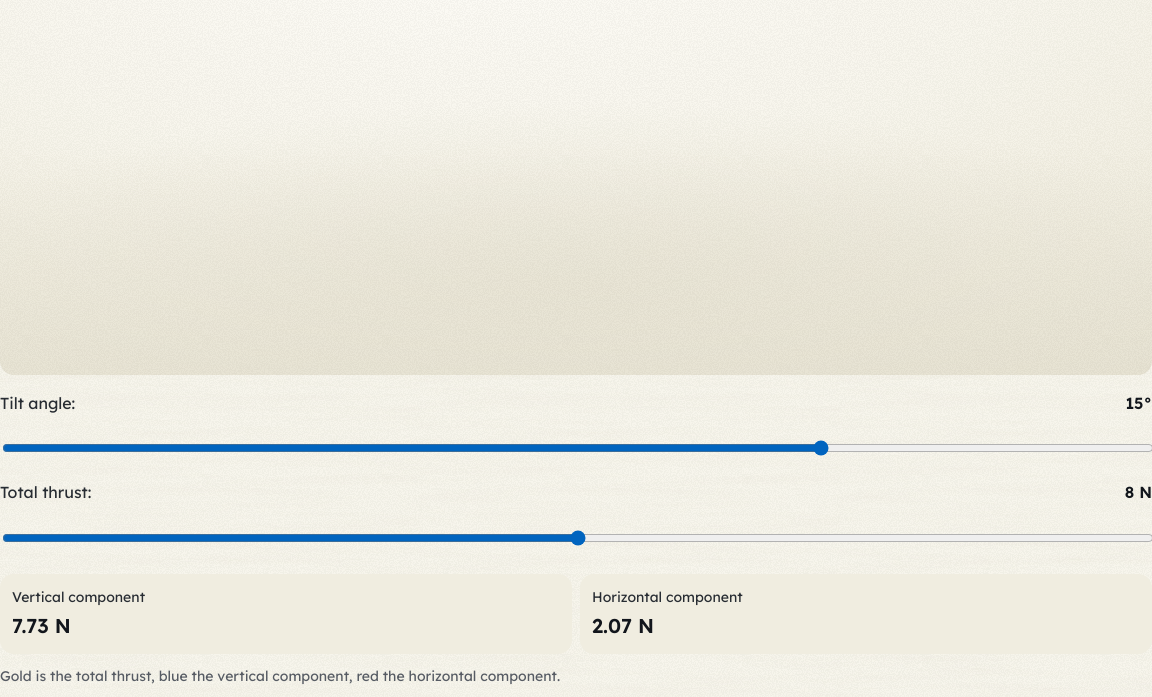
changes tilt, rotates and falls back on WebGL context loss
(page scrolled)
Set the slider labelled "Tilt angle: 15°" to "30": (1063, 448) [2,426,1151,470]
(page scrolled)
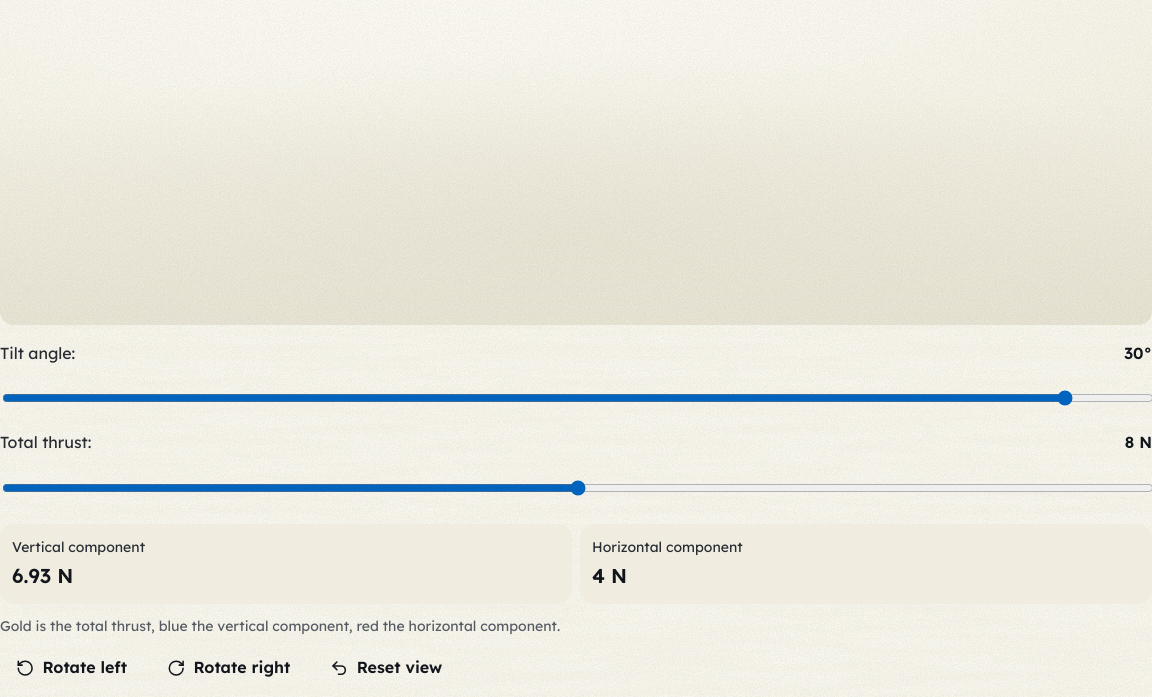
Click the button "Rotate right": click(229, 668) [151,646,306,690]
(page scrolled)
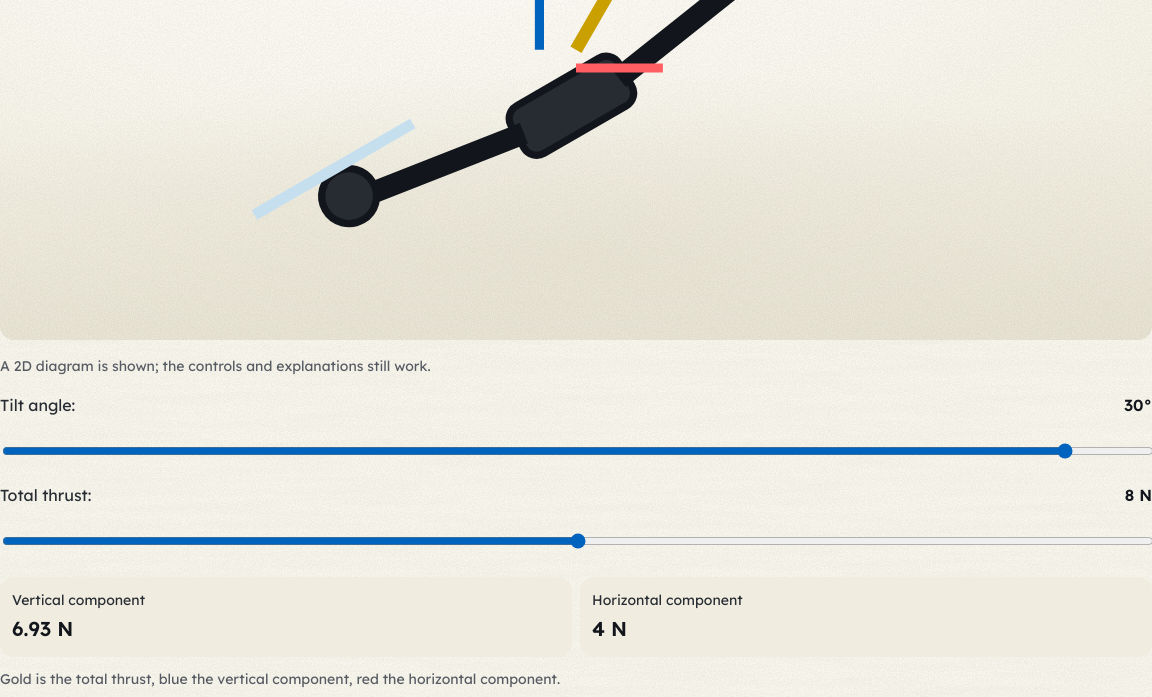
Result: the text "A 2D diagram is shown; the controls and explanations still work." is shown at [0,357,431,375]
